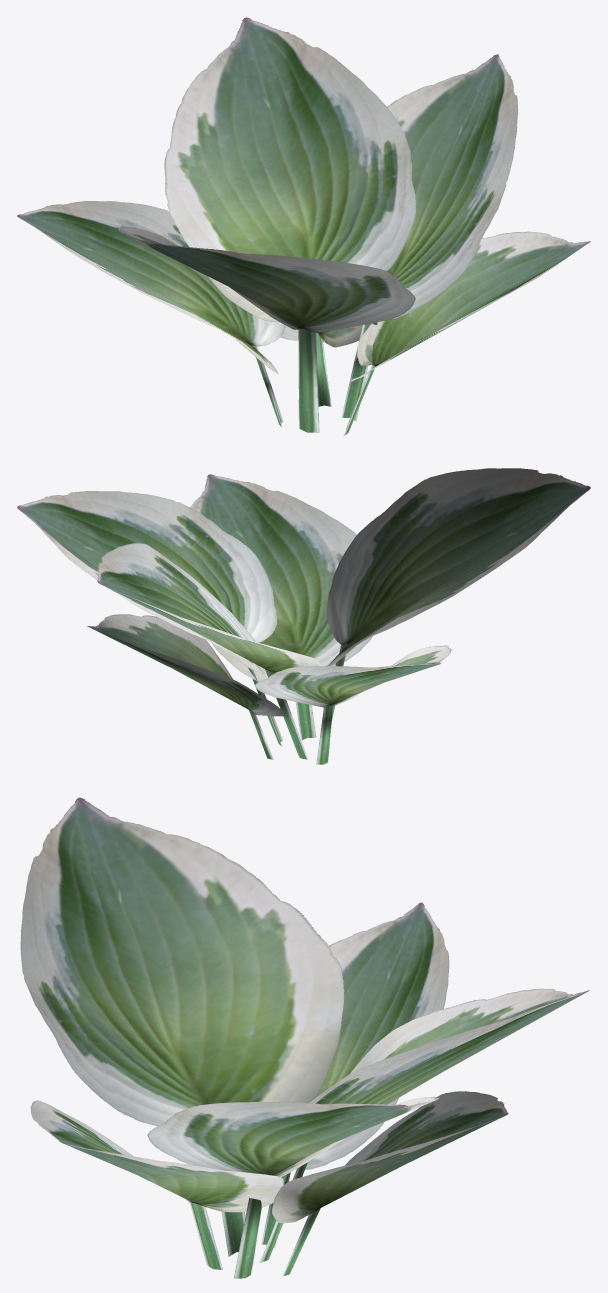
The model's file is plant_small_wg_04H.fbx.
3 views of the same model, one above another, from view 1: azimuth 30°, elevation 25°; view 2: azimuth 150°, elevation 25°; view 3: azimuth 270°, elevation 25° (orthographic). The views are drawn at different scales.
Parts seen in each view (by area): view 1: plant_small_wg_04H; view 2: plant_small_wg_04H; view 3: plant_small_wg_04H.
Part boxes in pixels (bbox=[...]): plant_small_wg_04H: bbox=[17, 17, 590, 435]; plant_small_wg_04H: bbox=[17, 468, 590, 764]; plant_small_wg_04H: bbox=[20, 797, 589, 1278].
Size of the model in its own units: 116 by 66.37 by 104.
